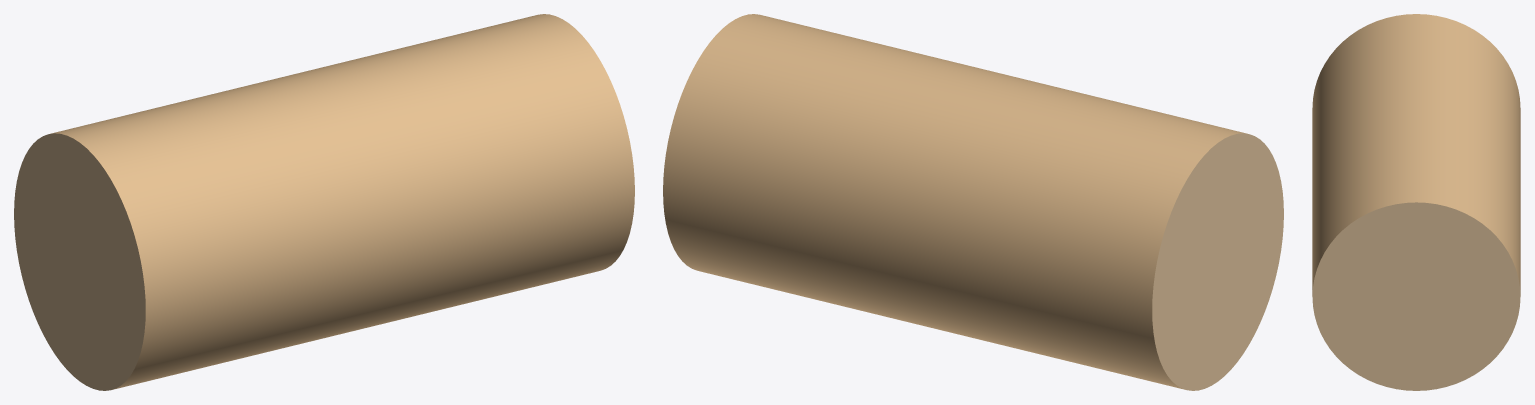
Rendered from SM_RawLog_75_SaddleB_Lower.fbx.
The picture shows the model from 3 angles, left to right: view 1: azimuth 30°, elevation 25°; view 2: azimuth 150°, elevation 25°; view 3: azimuth 270°, elevation 25°; orthographic projection. The views are drawn at different scales.
Parts seen in each view (by area): view 1: RawLog_75_SaddleB_Lower; view 2: RawLog_75_SaddleB_Lower; view 3: RawLog_75_SaddleB_Lower.
Part boxes in pixels (<box>): RawLog_75_SaddleB_Lower: <box>14,14,634,390</box>; RawLog_75_SaddleB_Lower: <box>663,14,1283,390</box>; RawLog_75_SaddleB_Lower: <box>1312,14,1520,390</box>.
Size of what is drawn, in the model's own units: 0.75 by 0.35 by 0.35.
